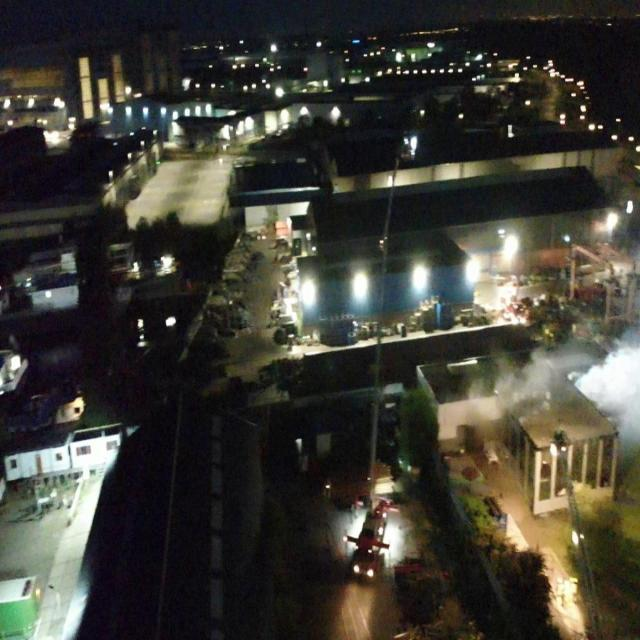Smoke: (455, 317, 640, 457)
